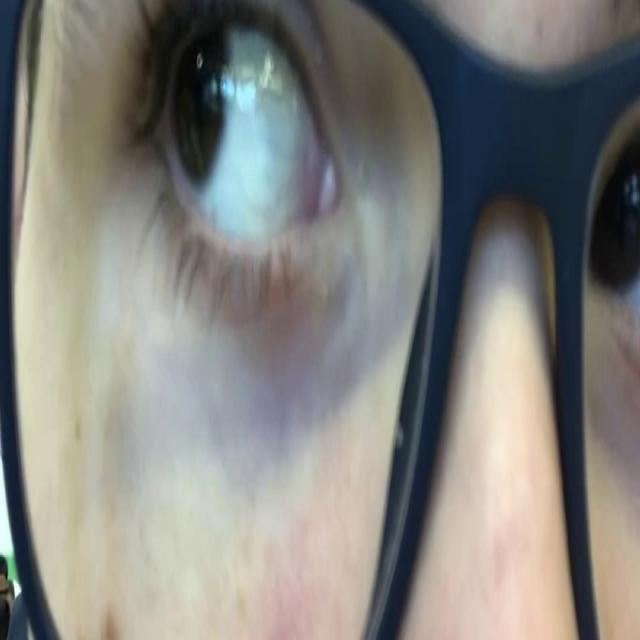eye: (131, 0, 343, 347)
gaze: (165, 22, 227, 201)
